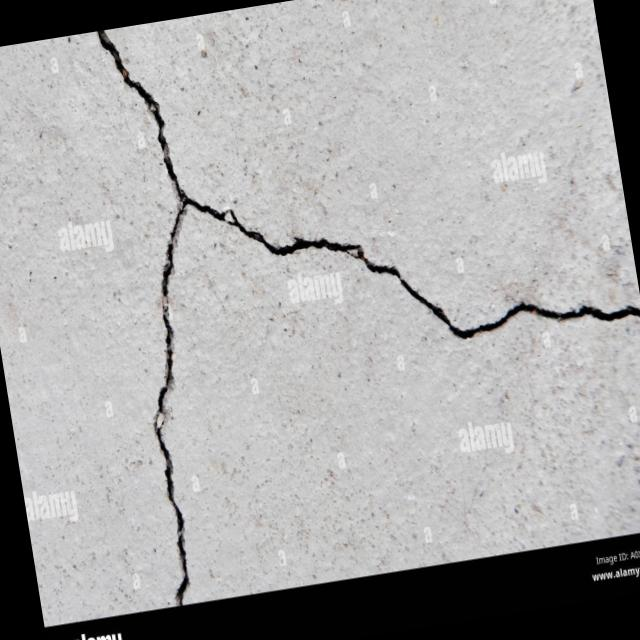crack: (98, 0, 640, 396), (82, 21, 251, 606)
